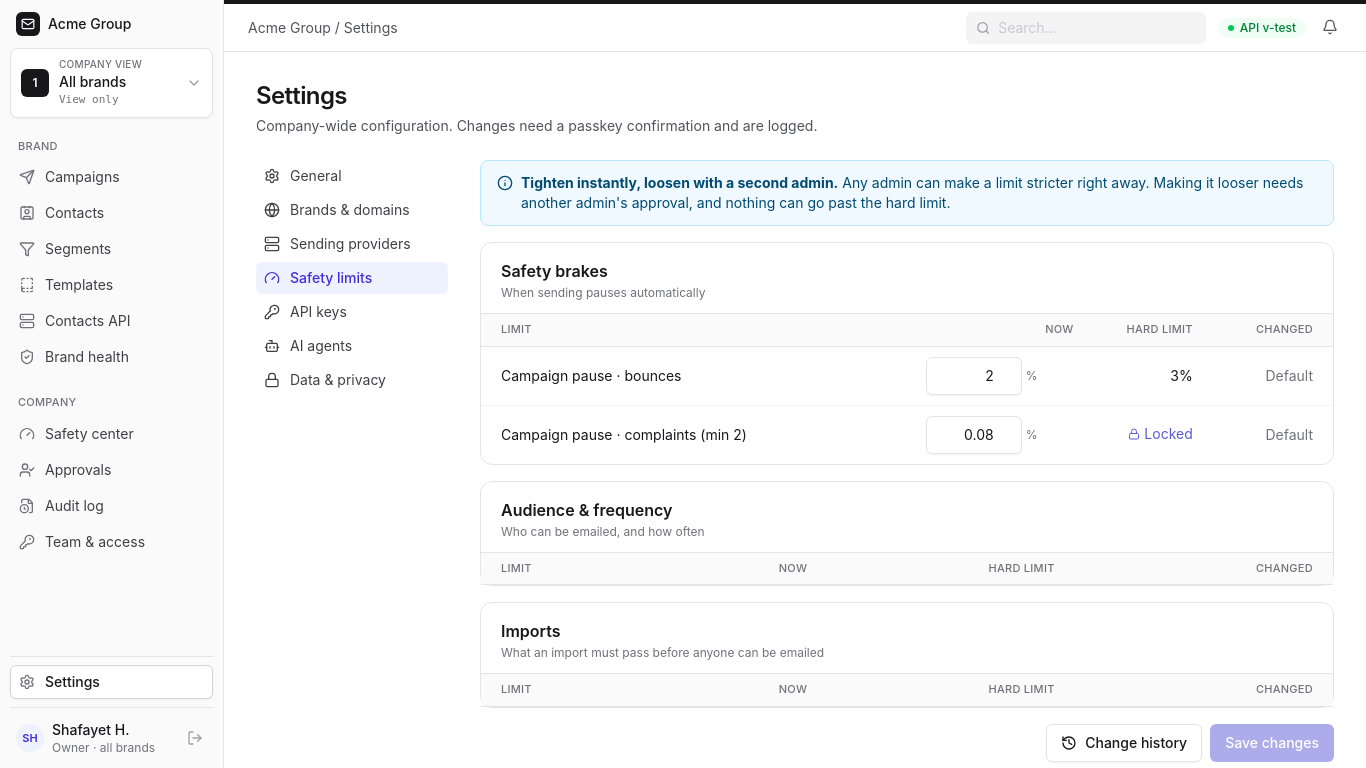
safety limits (S17) › marks loosening as needing approval and saves
Expected: the text "Locked" is shown, [1128, 424, 1193, 444]
Replace the text in the number field named "Campaign pause · bounces" with "2.5" at (974, 376), box [926, 357, 1022, 395]
(page scrolled)
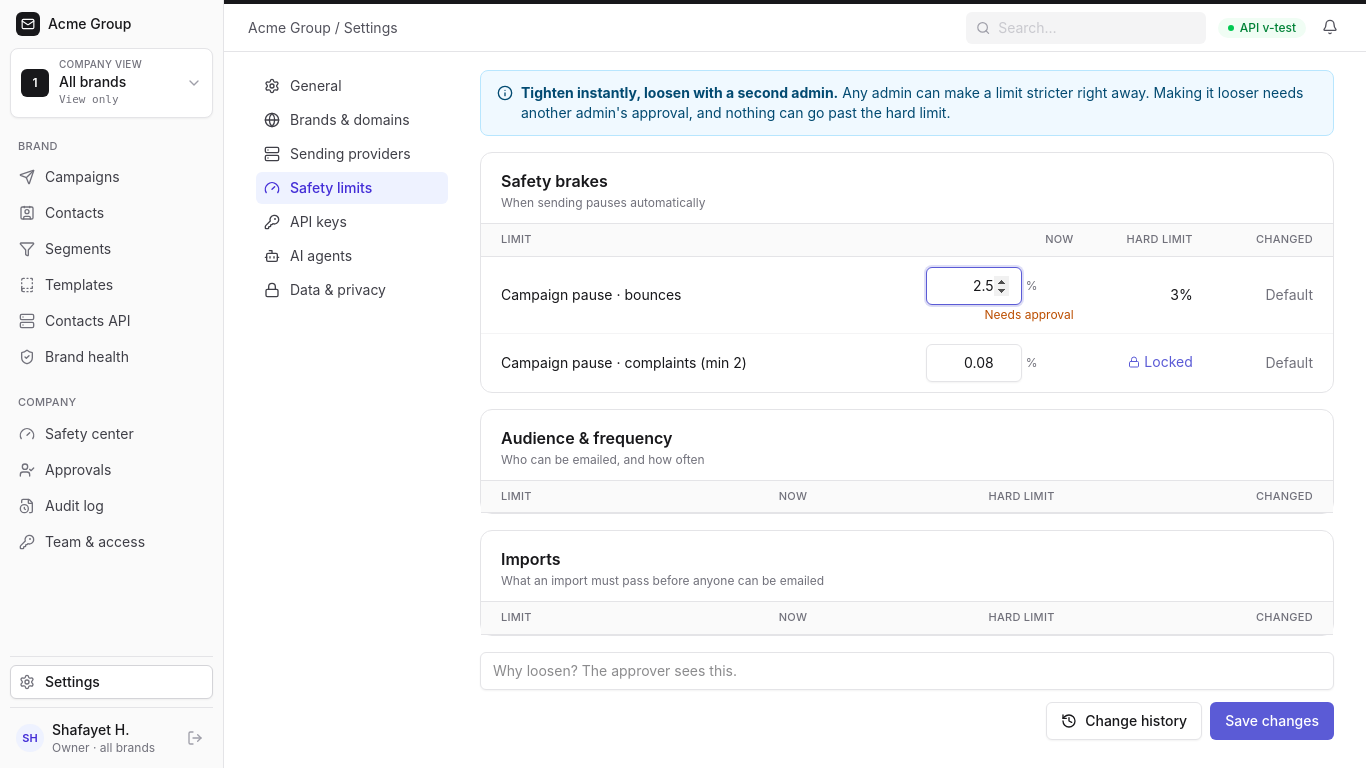
Now the text "Needs approval" is shown, box [984, 307, 1074, 322]
Type "cleaner list" into the field labelled "Why loosen?" at (907, 671), box [480, 652, 1334, 690]
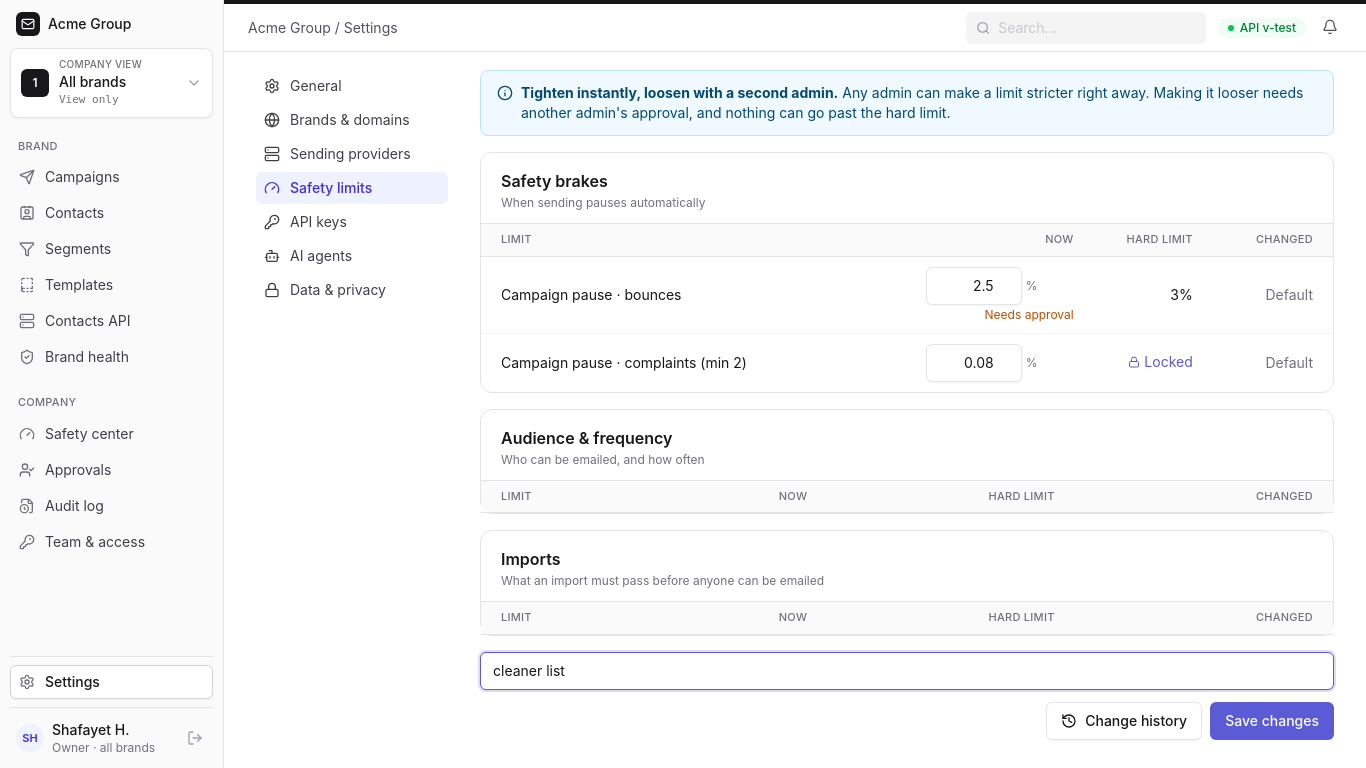
Click the button "Save changes" at (1272, 721), box [1210, 702, 1334, 740]
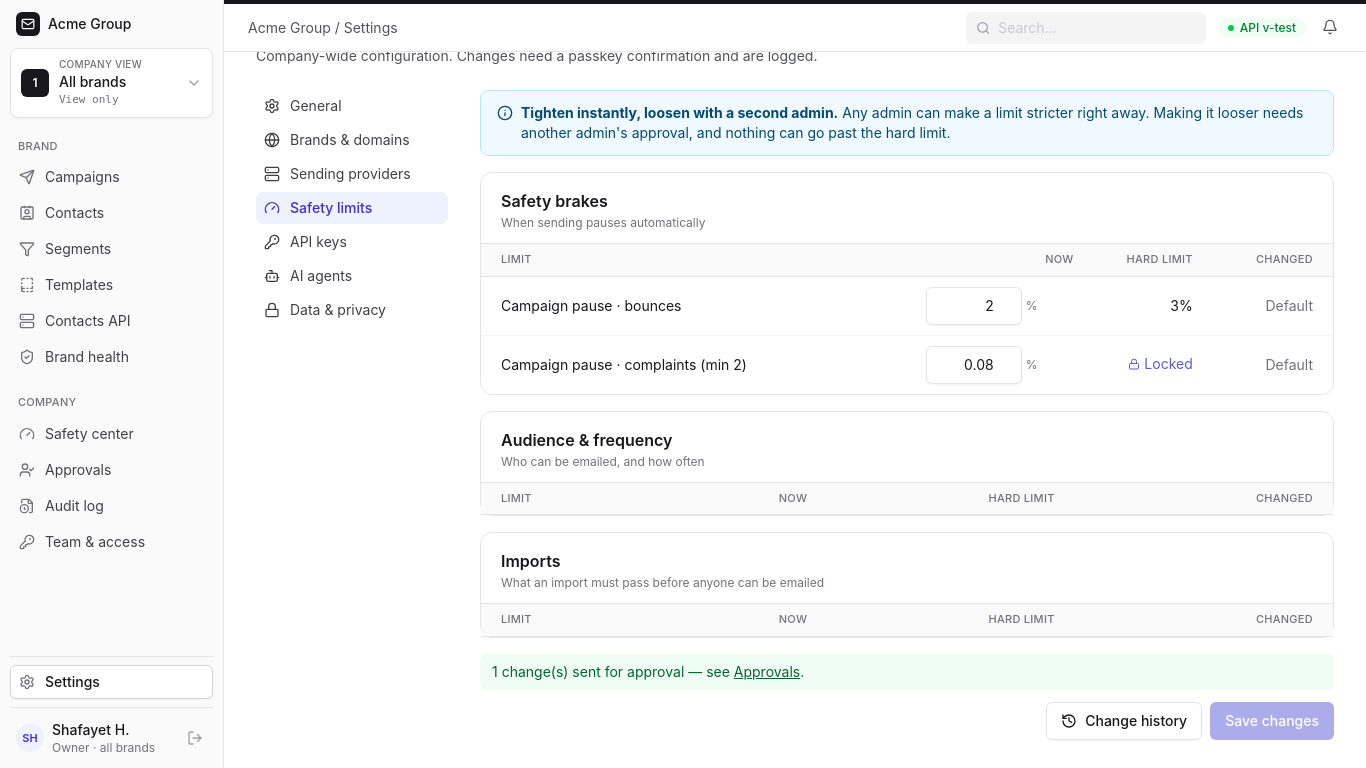
Now the text "1 change(s) sent for approval — see Approvals ." is shown, box [480, 654, 1334, 690]
